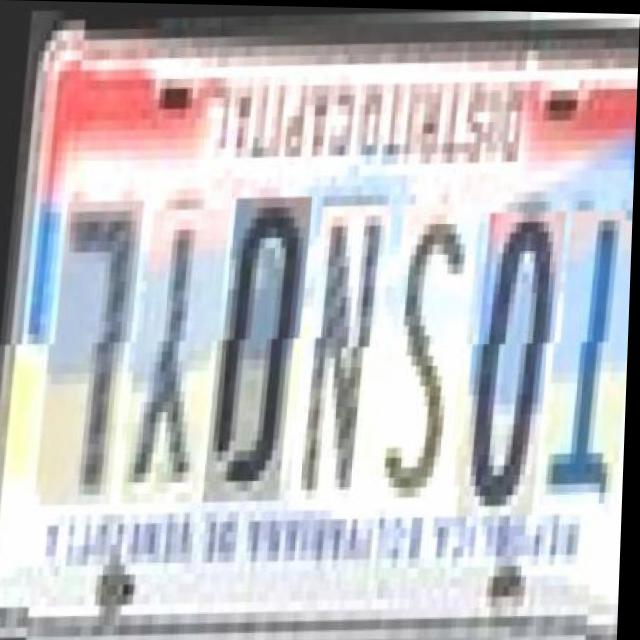0: (204, 191, 303, 499)
l: (35, 193, 134, 502)
n: (290, 199, 384, 507)
o: (459, 206, 558, 514)
s: (372, 197, 470, 505)
t: (541, 204, 634, 503)
y: (123, 202, 221, 500)
